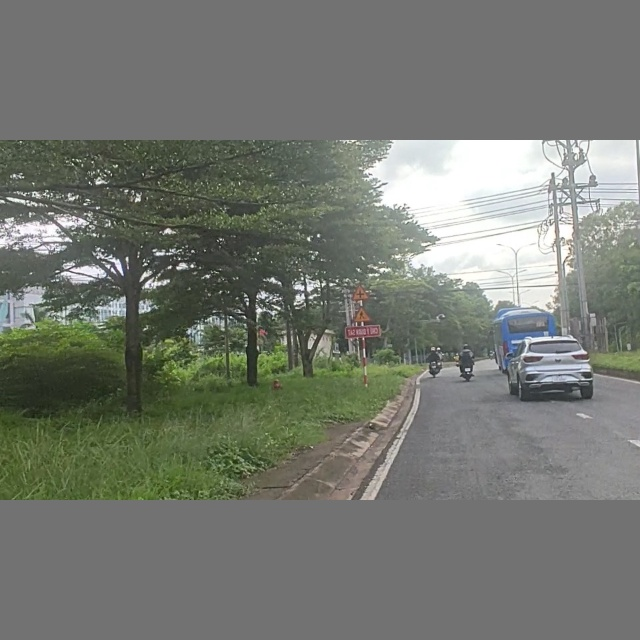W.205a: (351, 283, 370, 301)
W.224: (348, 304, 372, 323)
